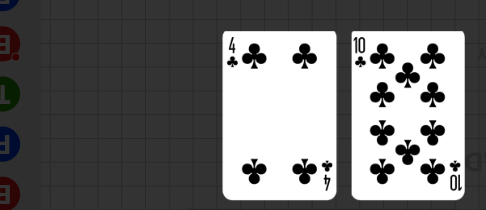10C: (353, 35, 368, 70)
4C: (226, 35, 240, 70)
